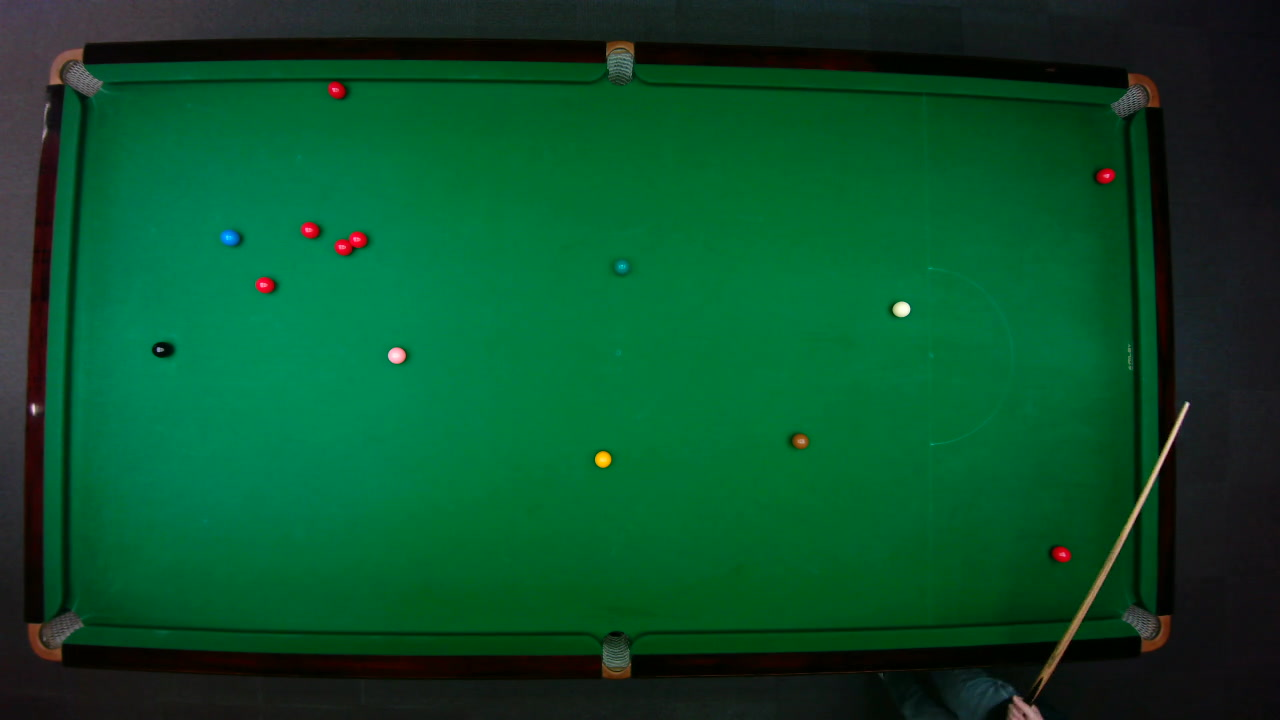bag: (25, 608, 84, 660), (47, 47, 103, 97), (1120, 603, 1171, 651), (1108, 72, 1160, 118), (601, 629, 630, 680), (605, 39, 633, 86)
black: (150, 340, 172, 358)
blue: (219, 228, 240, 246)
brown: (790, 432, 809, 449)
cue: (1023, 400, 1193, 711)
green: (612, 257, 630, 275)
pink: (386, 345, 406, 364)
red: (1049, 544, 1072, 563), (1094, 165, 1116, 184), (347, 229, 368, 248), (299, 220, 320, 239), (332, 237, 354, 255), (253, 275, 275, 293), (326, 80, 346, 99)
white: (890, 299, 911, 317)
yellow: (593, 449, 612, 468)
zone: (927, 266, 1013, 445)
